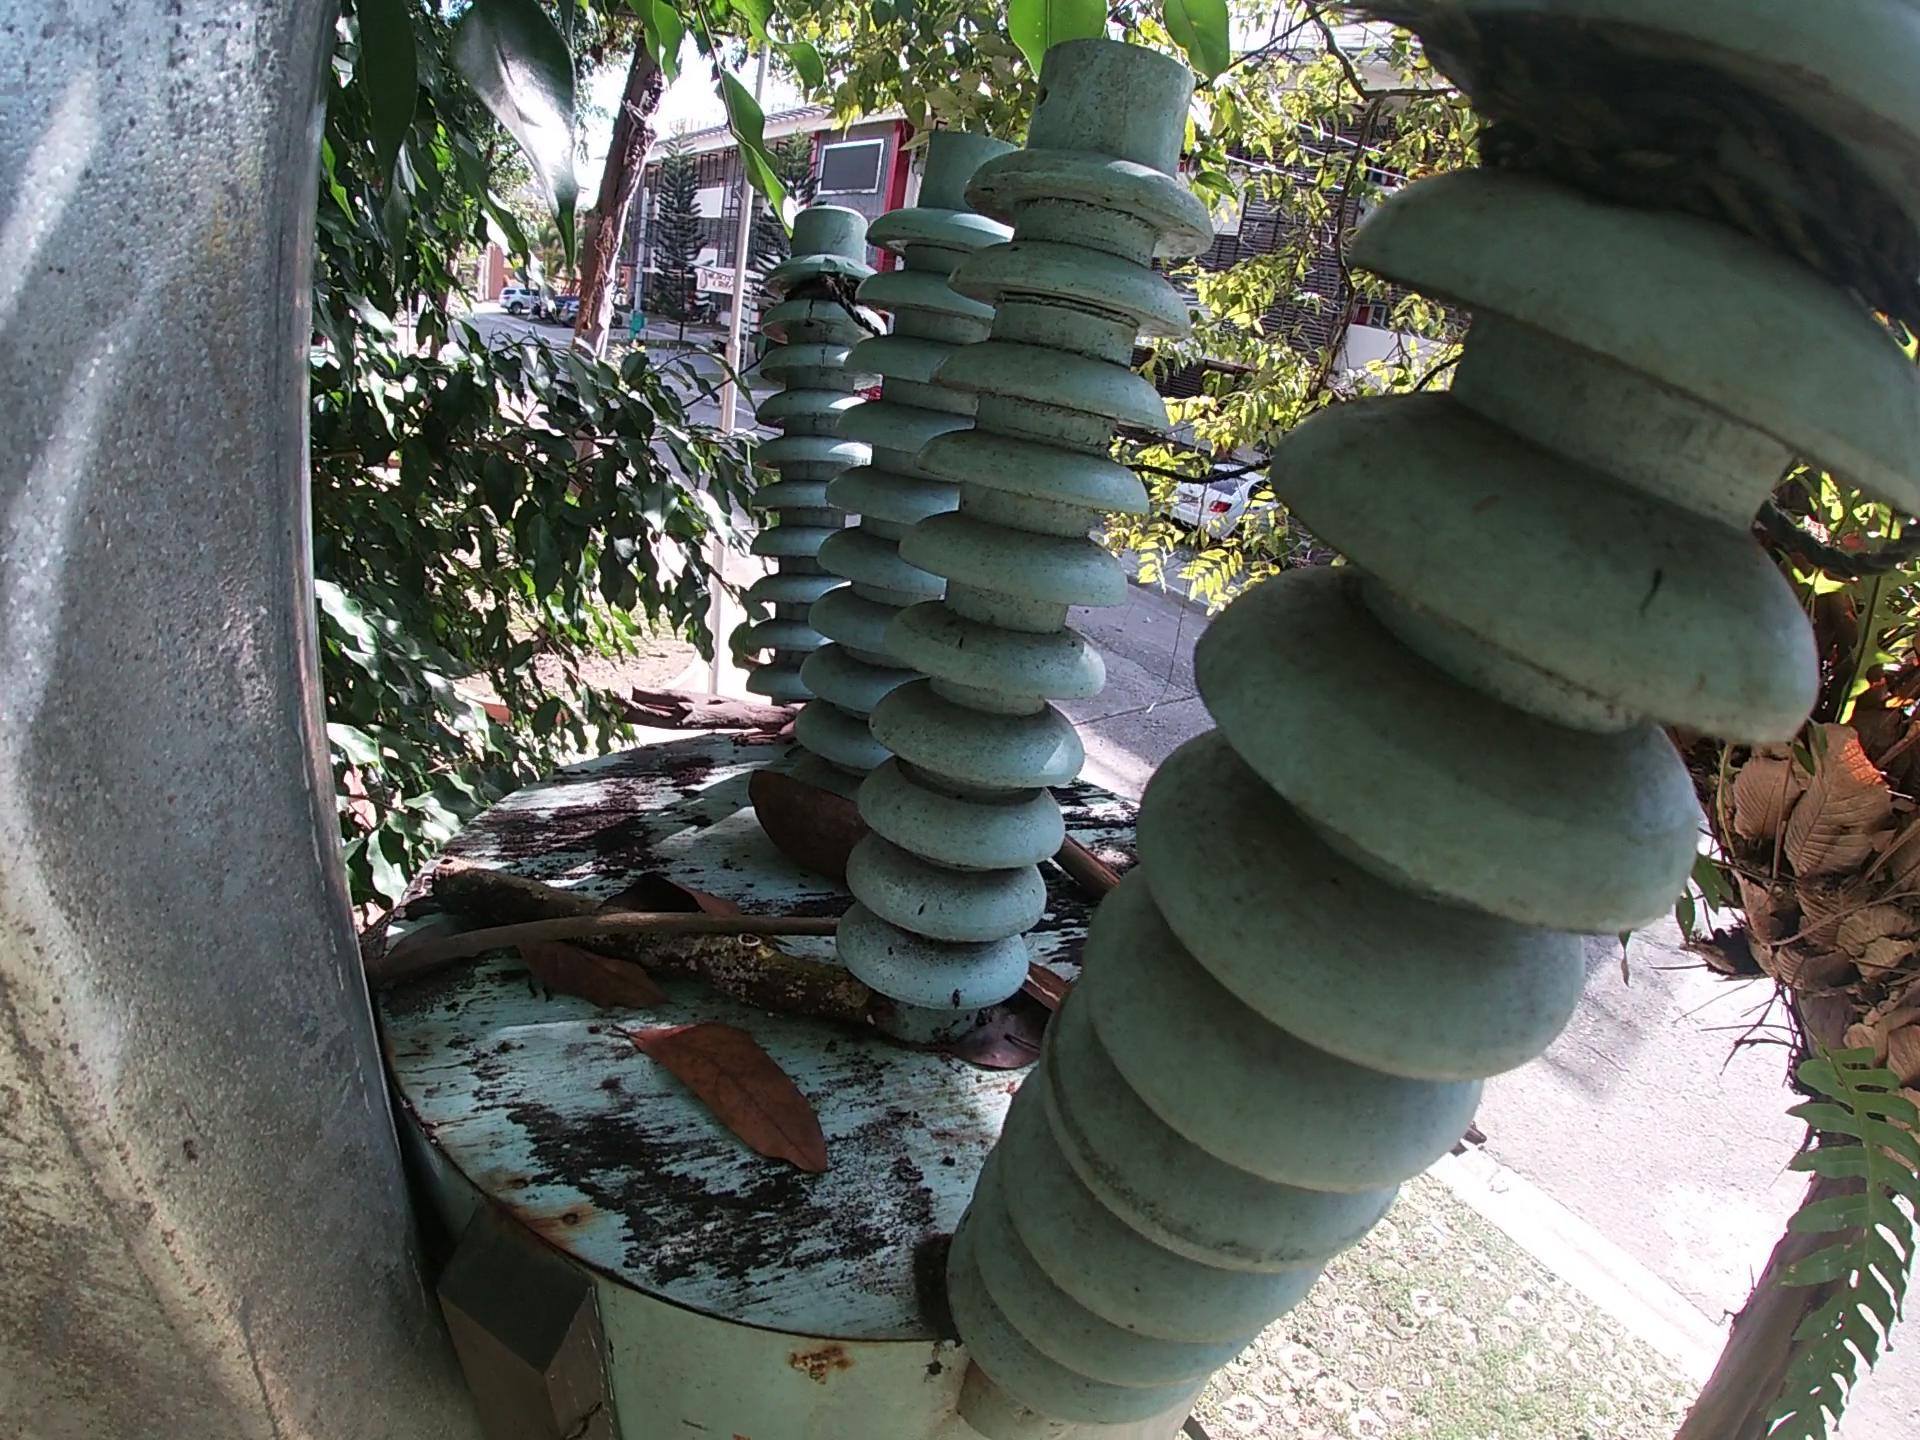leaf: (609, 1009, 835, 1198), (602, 868, 751, 930), (927, 1018, 1043, 1082), (387, 933, 441, 1044), (543, 967, 655, 1015)
mahogany fruit: (735, 759, 860, 873)
tree branch: (413, 867, 884, 1032), (361, 914, 850, 968), (609, 679, 798, 737), (1054, 829, 1120, 900), (1448, 1119, 1515, 1165), (1020, 959, 1058, 1016)
